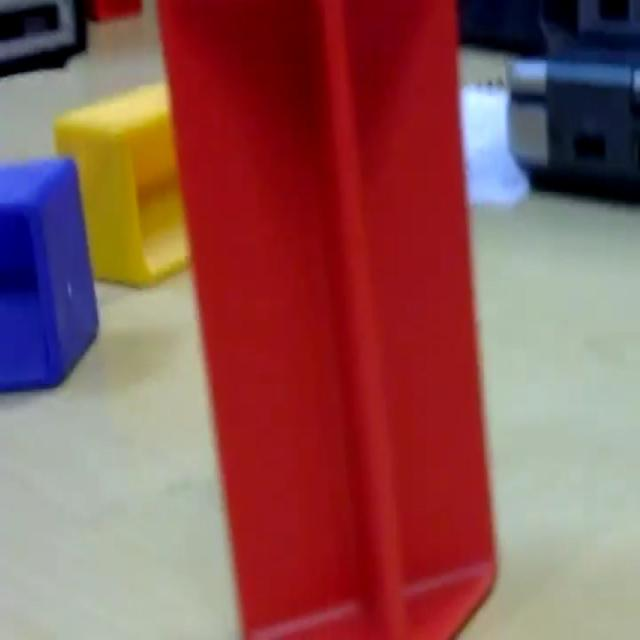blue_block: (0, 153, 99, 392)
red_block: (155, 0, 500, 636)
yellow_block: (52, 77, 190, 288)
